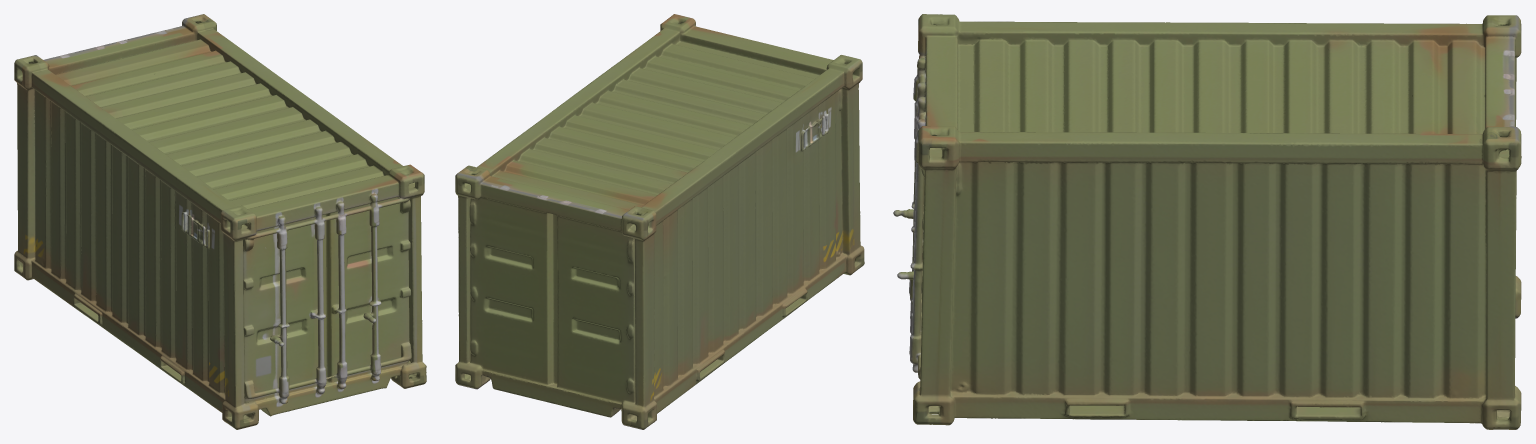
Rendered from Container3D.fbx.
3 views of the same model, side by side, from view 1: azimuth 30°, elevation 25°; view 2: azimuth 150°, elevation 25°; view 3: azimuth 270°, elevation 25° (orthographic). The views are drawn at different scales.
Parts seen in each view (by area): view 1: tripo_node_8daac6d9; view 2: tripo_node_8daac6d9; view 3: tripo_node_8daac6d9.
Part boxes in pixels (x1,y1,x2,y2): tripo_node_8daac6d9: (14,14,426,429); tripo_node_8daac6d9: (455,14,864,429); tripo_node_8daac6d9: (893,14,1521,429).
Bounding box in the file's own units: 0.4822 × 0.5128 × 1.
